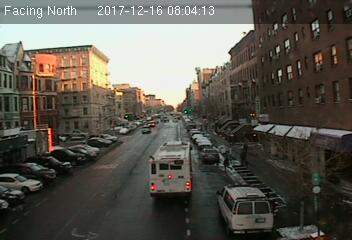bus: (147, 140, 194, 197)
car: (200, 148, 219, 162)
pedestrian: (222, 155, 234, 176)
police: (215, 181, 277, 235)
